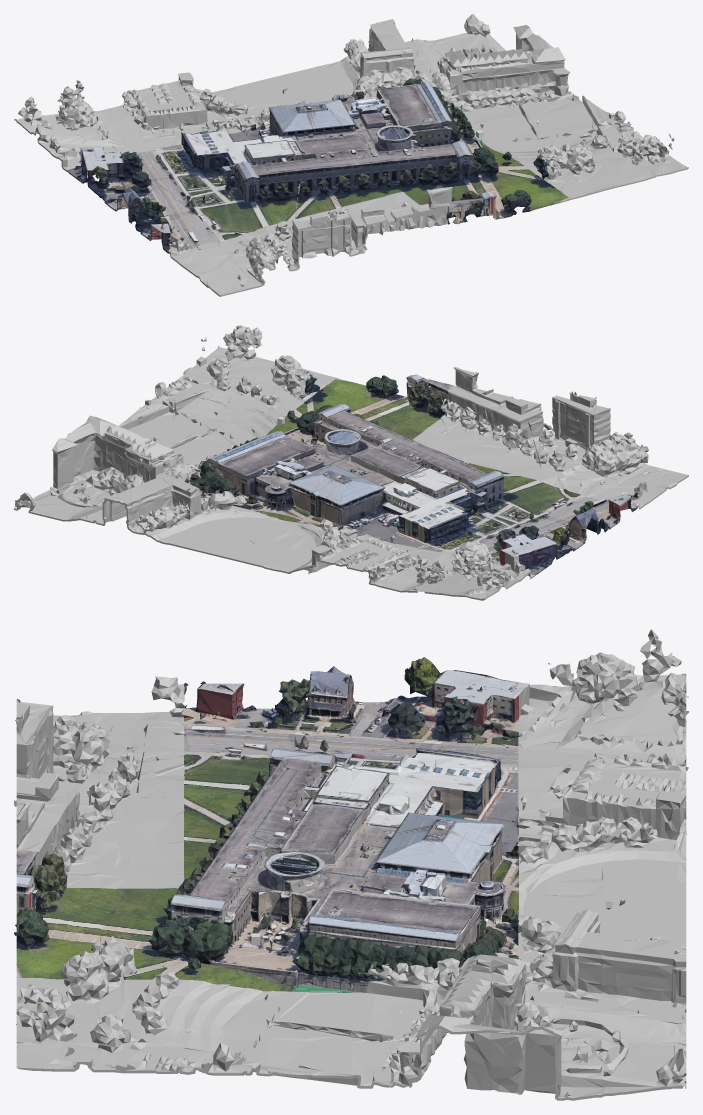
The model's file is UniversityCenterModel.fbx.
3 views of the same model, one above another, from view 1: azimuth 30°, elevation 25°; view 2: azimuth 150°, elevation 25°; view 3: azimuth 270°, elevation 25° (orthographic). The views are drawn at different scales.
Visible parts, largest first — view 1: BuildingMesh-00046, BuildingMesh-00028, BuildingMesh-00047, BuildingMesh-00007, BuildingMesh-00040, BuildingMesh-00010, BuildingMesh-00045, BuildingMesh-00019, BuildingMesh-00031, BuildingMesh-00049, BuildingMesh-00043, BuildingMesh-00050 (+8 smaller); view 2: BuildingMesh-00012, BuildingMesh-00007, BuildingMesh-00034, BuildingMesh-00031, BuildingMesh-00035, BuildingMesh-00019, BuildingMesh-00050, BuildingMesh-00037, BuildingMesh-00047, BuildingMesh-00010, BuildingMesh-00045, BuildingMesh-00040 (+9 smaller); view 3: BuildingMesh-00037, BuildingMesh-00049, BuildingMesh-00043, BuildingMesh-00035, BuildingMesh-00010, BuildingMesh-00028, BuildingMesh-00012, BuildingMesh-00019, BuildingMesh-00047, BuildingMesh-00050, BuildingMesh-00040, BuildingMesh-00045 (+10 smaller).
Part boxes in pixels (<box>): BuildingMesh-00046: <box>233,134,402,221</box>; BuildingMesh-00028: <box>419,34,585,130</box>; BuildingMesh-00047: <box>117,163,285,253</box>; BuildingMesh-00007: <box>168,197,337,296</box>; BuildingMesh-00040: <box>66,132,236,211</box>; BuildingMesh-00010: <box>14,80,181,169</box>; BuildingMesh-00045: <box>403,152,570,224</box>; BuildingMesh-00019: <box>519,131,688,199</box>; BuildingMesh-00031: <box>249,33,412,105</box>; BuildingMesh-00049: <box>132,72,278,141</box>; BuildingMesh-00043: <box>356,109,518,191</box>; BuildingMesh-00050: <box>474,97,634,161</box>; BuildingMesh-00012: <box>412,367,571,475</box>; BuildingMesh-00007: <box>520,391,688,509</box>; BuildingMesh-00034: <box>300,467,468,547</box>; BuildingMesh-00031: <box>131,476,299,564</box>; BuildingMesh-00035: <box>184,438,350,522</box>; BuildingMesh-00019: <box>168,325,336,416</box>; BuildingMesh-00050: <box>119,382,284,456</box>; BuildingMesh-00037: <box>14,438,170,531</box>; BuildingMesh-00047: <box>468,471,638,537</box>; BuildingMesh-00010: <box>365,541,532,600</box>; BuildingMesh-00045: <box>286,374,453,439</box>; BuildingMesh-00040: <box>417,493,586,575</box>; BuildingMesh-00037: <box>518,937,686,1100</box>; BuildingMesh-00049: <box>518,765,686,895</box>; BuildingMesh-00043: <box>184,850,351,992</box>; BuildingMesh-00035: <box>351,839,518,992</box>; BuildingMesh-00010: <box>518,629,688,793</box>; BuildingMesh-00028: <box>351,952,518,1093</box>; BuildingMesh-00012: <box>14,724,184,889</box>; BuildingMesh-00019: <box>16,936,184,1073</box>; BuildingMesh-00047: <box>184,666,351,797</box>; BuildingMesh-00050: <box>183,980,354,1084</box>; BuildingMesh-00040: <box>351,657,518,793</box>; BuildingMesh-00045: <box>14,850,184,979</box>.
Bounding box in the file's own units: 19506 × 2667 × 14814.
